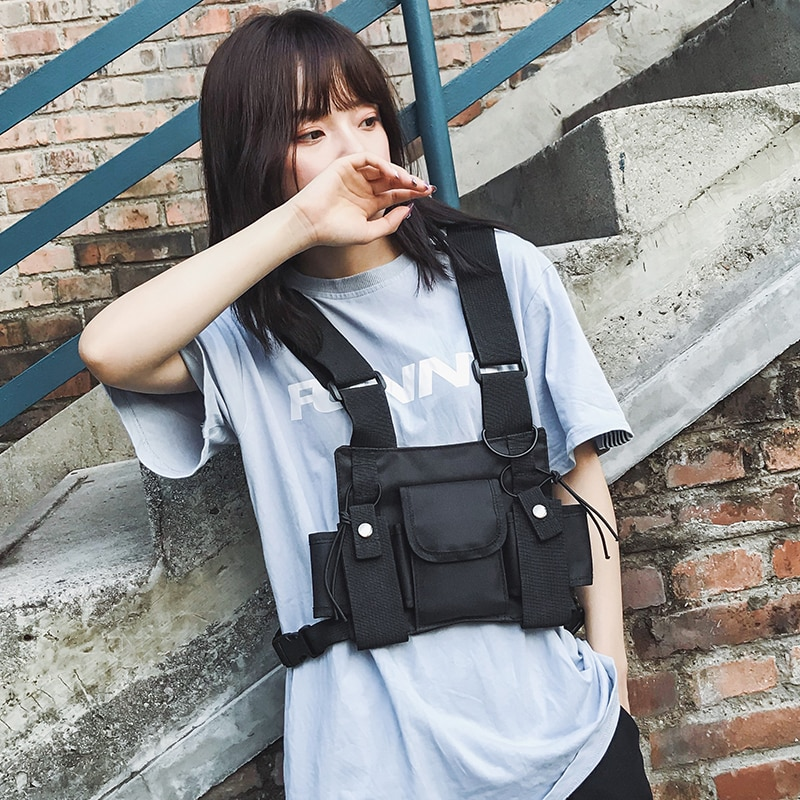Men's Backpacks: (257, 227, 602, 673)
Tops: (99, 213, 628, 800)
